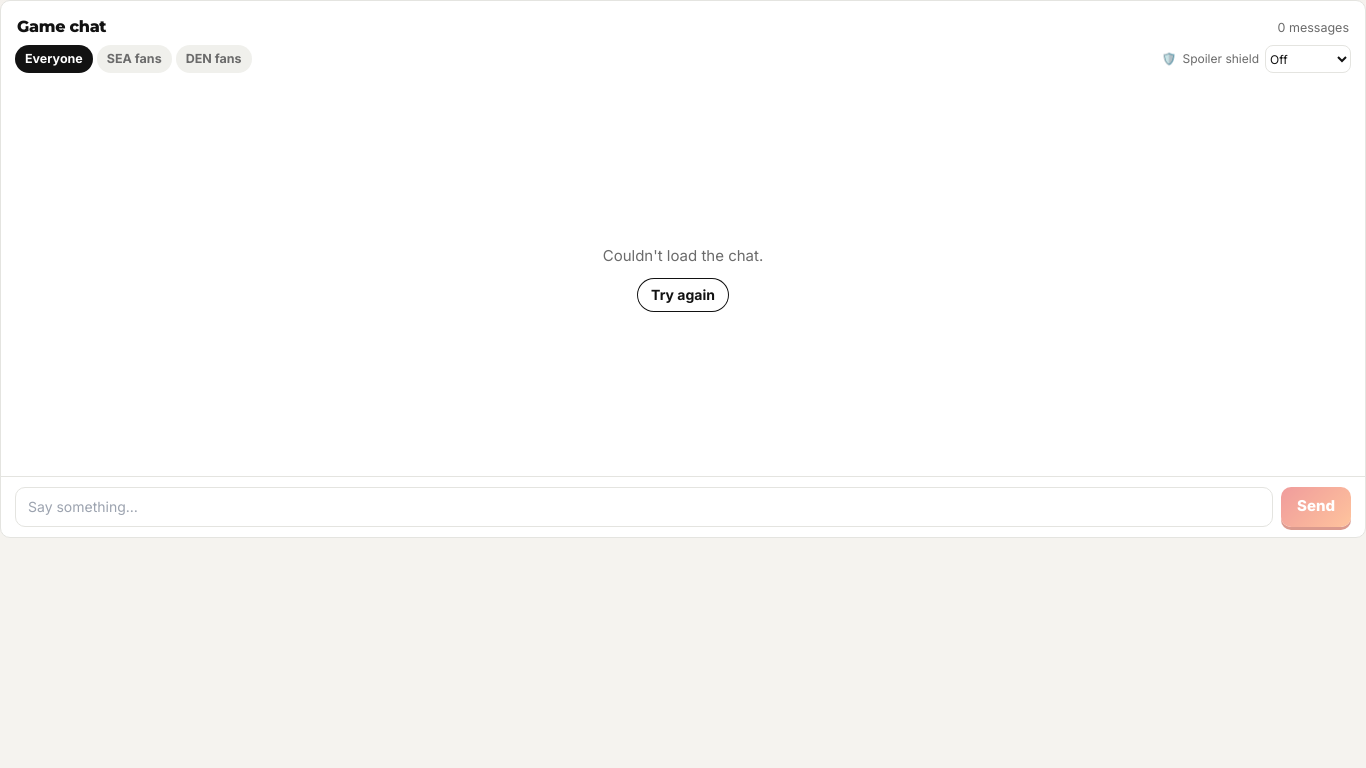
Test: ChatPanel › says so when the chat fails to load, and retries
Click the button "Try again".
click(683, 294)  # box [637,278,729,312]
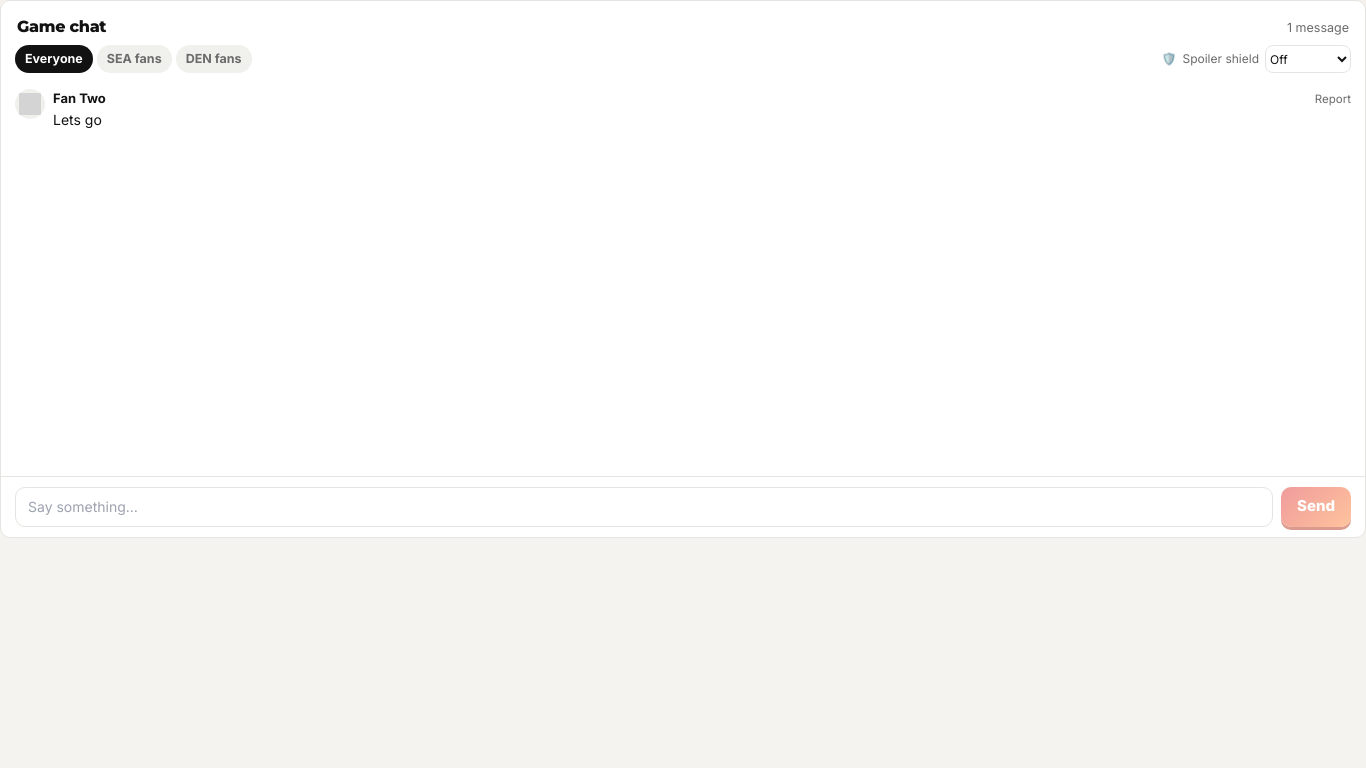
Now the text "Lets go" is shown, box [53,110,102,128]
